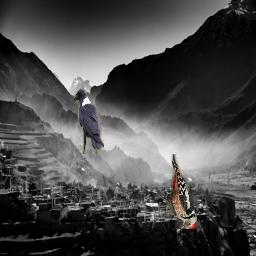Crow: (74, 88, 104, 154)
Woodpecker: (167, 155, 197, 230)
